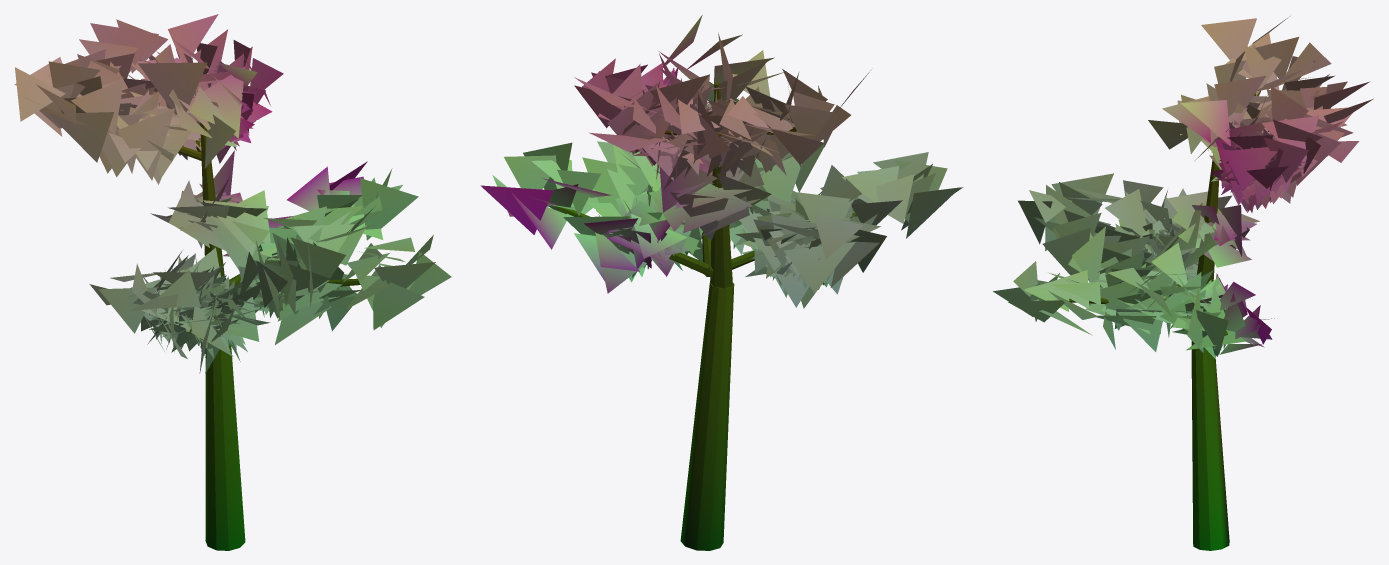
The model's file is ecological_savanna_young_02.glb.
3 renders of one model, left to right at view 1: azimuth 30°, elevation 25°; view 2: azimuth 150°, elevation 25°; view 3: azimuth 270°, elevation 25°, orthographic. The views are drawn at different scales.
Visible parts, largest first — view 1: ecological_savanna_young_02; view 2: ecological_savanna_young_02; view 3: ecological_savanna_young_02.
Part boxes in pixels (x1,y1,x2,y2): ecological_savanna_young_02: (14,14,451,550); ecological_savanna_young_02: (480,15,963,550); ecological_savanna_young_02: (993,16,1373,550).
Bounding box in the file's own units: 7.57 × 9.53 × 7.26.
